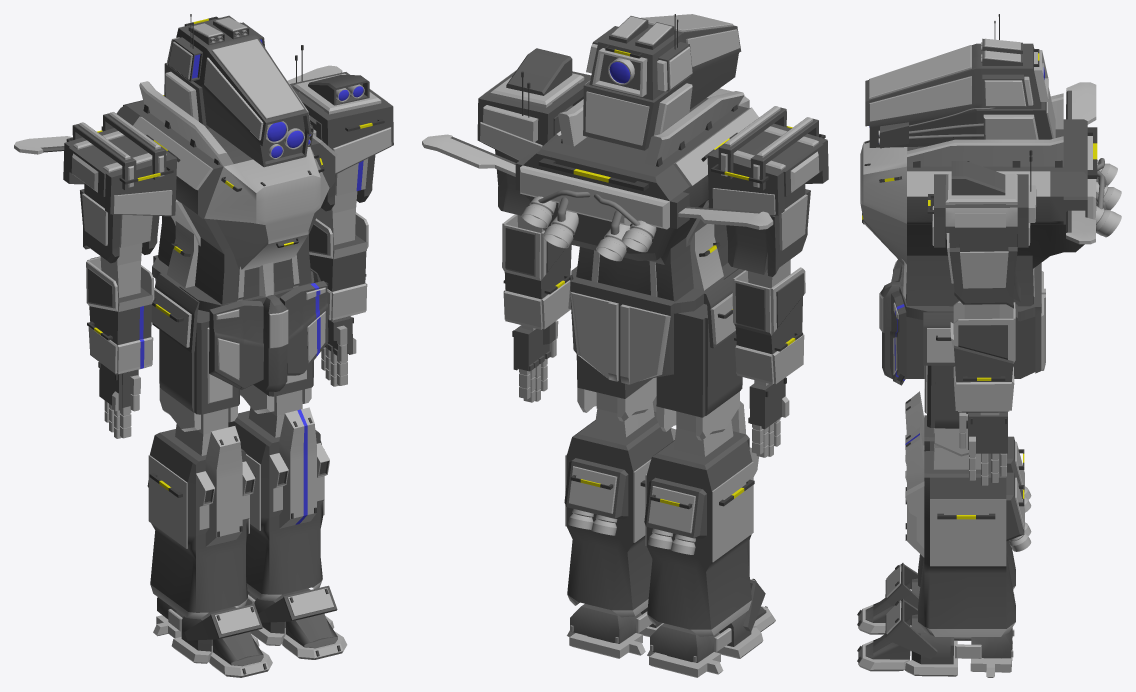
The model's file is Miscu_DASH_frame_SingleObjectTesting.fbx.
3 views of the same model, side by side, from view 1: azimuth 30°, elevation 25°; view 2: azimuth 150°, elevation 25°; view 3: azimuth 270°, elevation 25° (orthographic). The views are drawn at different scales.
Parts seen in each view (by area): view 1: LeftToe1; view 2: LeftToe1; view 3: LeftToe1.
Part boxes in pixels (<box>): LeftToe1: <box>14,14,393,677</box>; LeftToe1: <box>422,14,828,677</box>; LeftToe1: <box>857,14,1121,677</box>.
Bounding box in the file's own units: 6.83 × 12.35 × 4.82.
